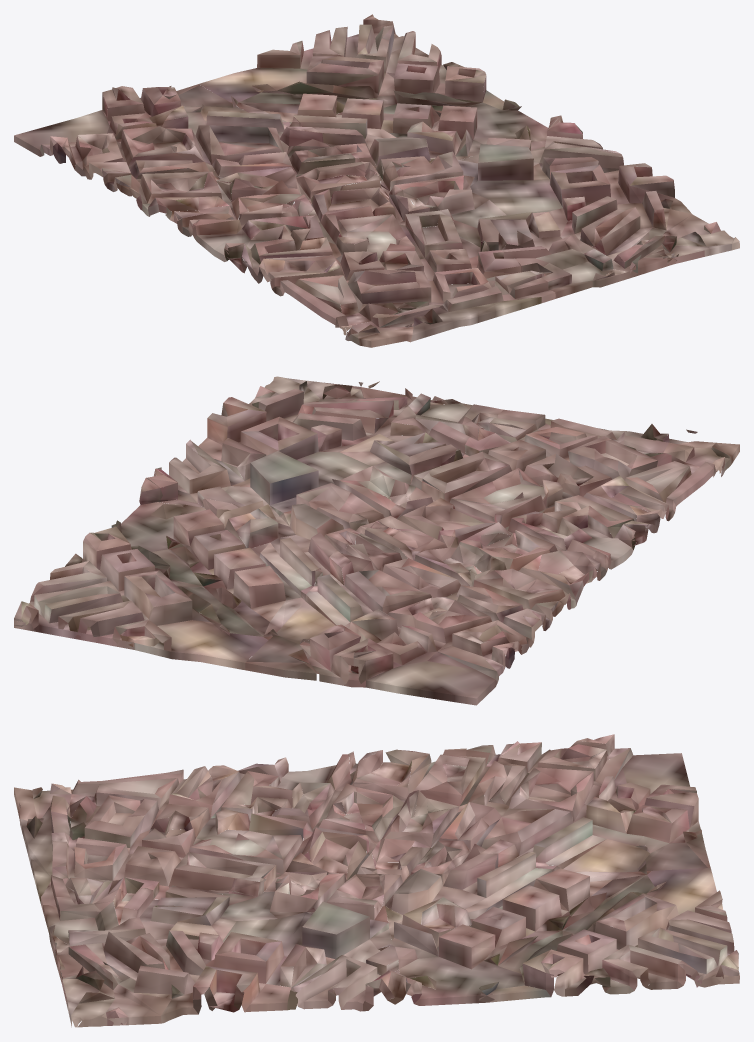
3 views of the same model, one above another, from view 1: azimuth 30°, elevation 25°; view 2: azimuth 150°, elevation 25°; view 3: azimuth 270°, elevation 25° (orthographic). The views are drawn at different scales.
Visible parts, largest first — view 1: Mesh_0; view 2: Mesh_0; view 3: Mesh_0.
Part boxes in pixels (<box>): Mesh_0: <box>14,14,739,347</box>; Mesh_0: <box>14,376,739,705</box>; Mesh_0: <box>14,734,739,1027</box>.
Size of the model in its own units: 532 by 49.48 by 659.
Materials: 2 (2 with a texture image).
